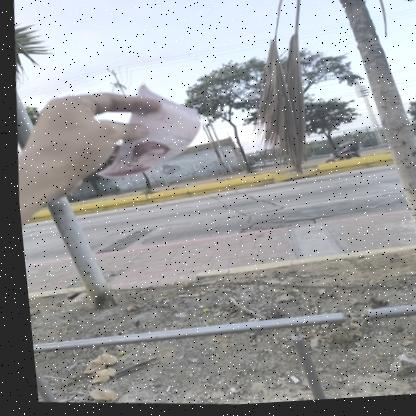vef_front: (85, 77, 206, 190)
